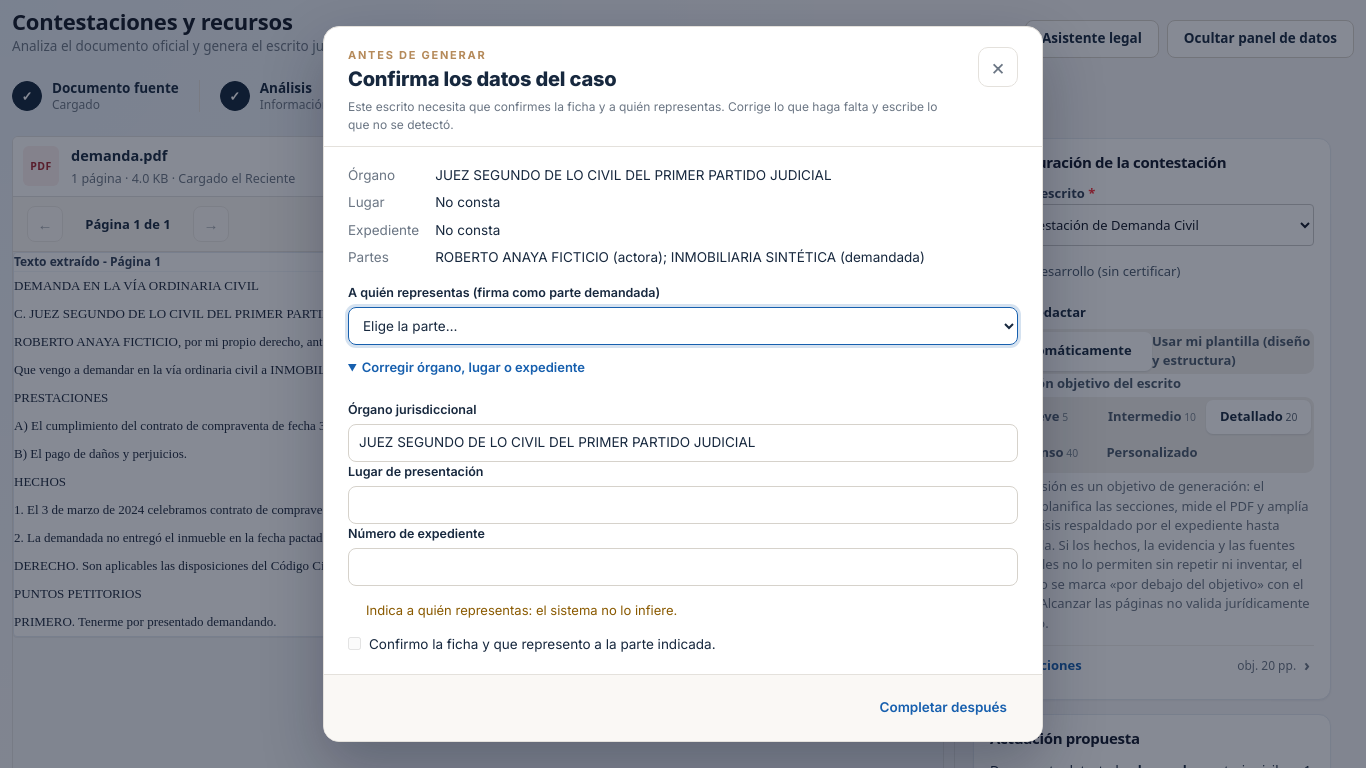
Scenario: diálogo de requisitos del escrito › se cierra al confirmar la ficha y el resumen muestra a quién se representa
Select "ROBERTO ANAYA FICTICIO (actora)" in the dropdown named "Parte que representas": (683, 326) [348, 307, 1018, 345]
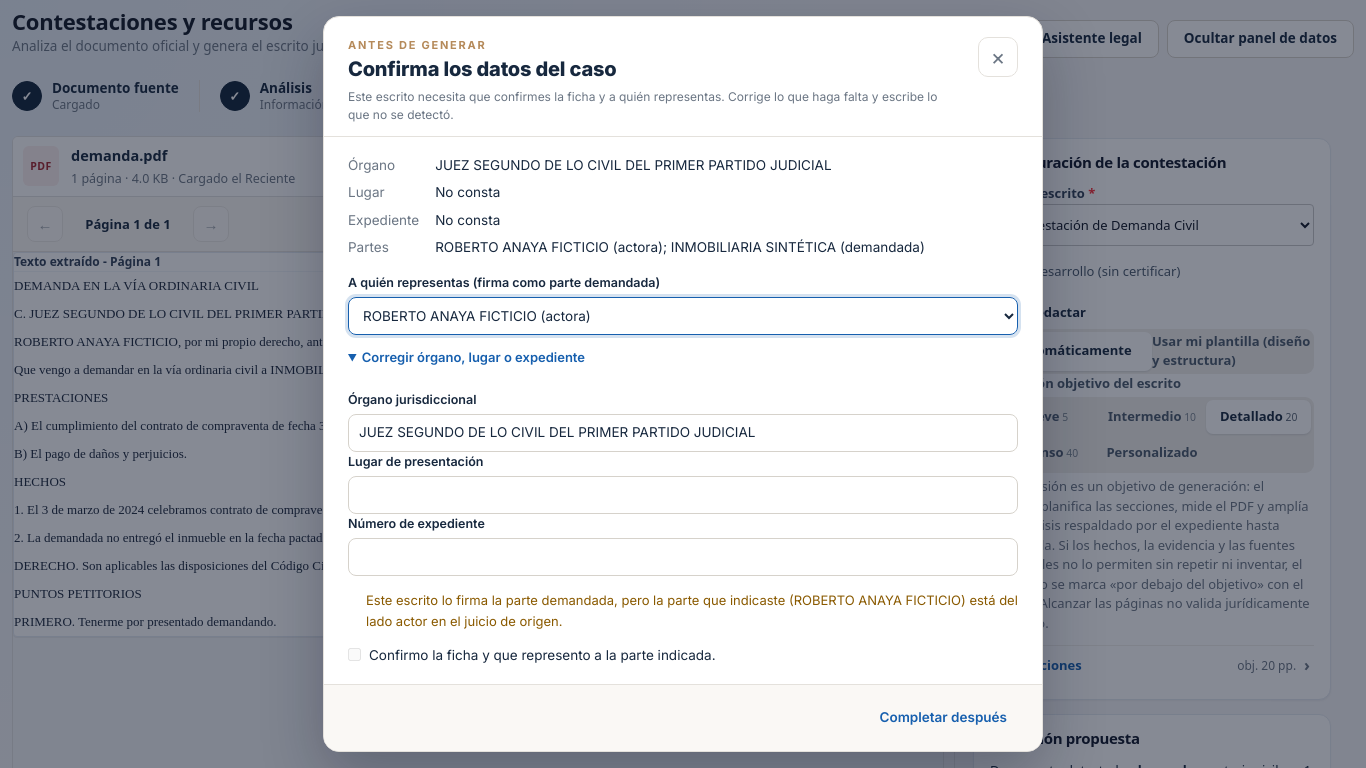
Select "INMOBILIARIA SINTÉTICA (demandada)" in the dropdown named "Parte que representas": (683, 316) [348, 297, 1018, 335]
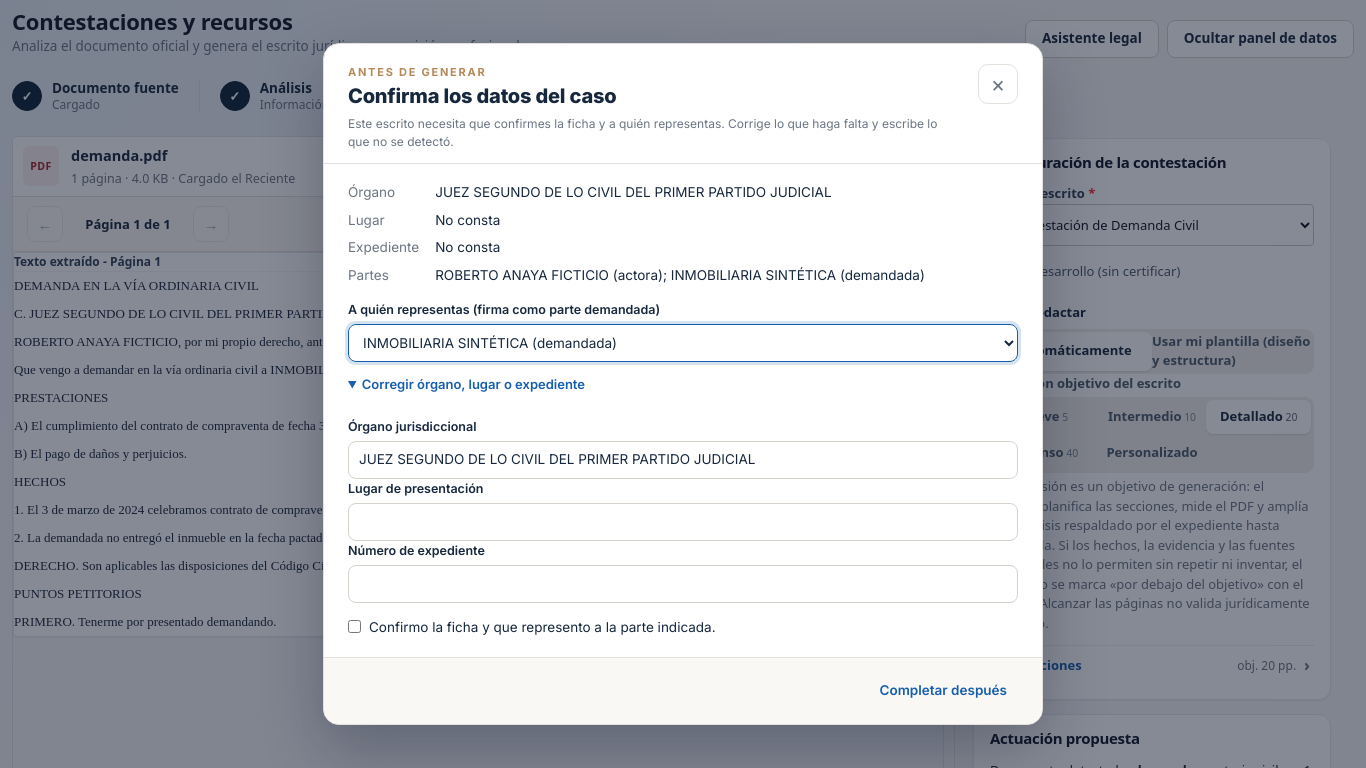
Click the checkbox named "Confirmar ficha del caso": (354, 627) [348, 620, 361, 633]
(page scrolled)
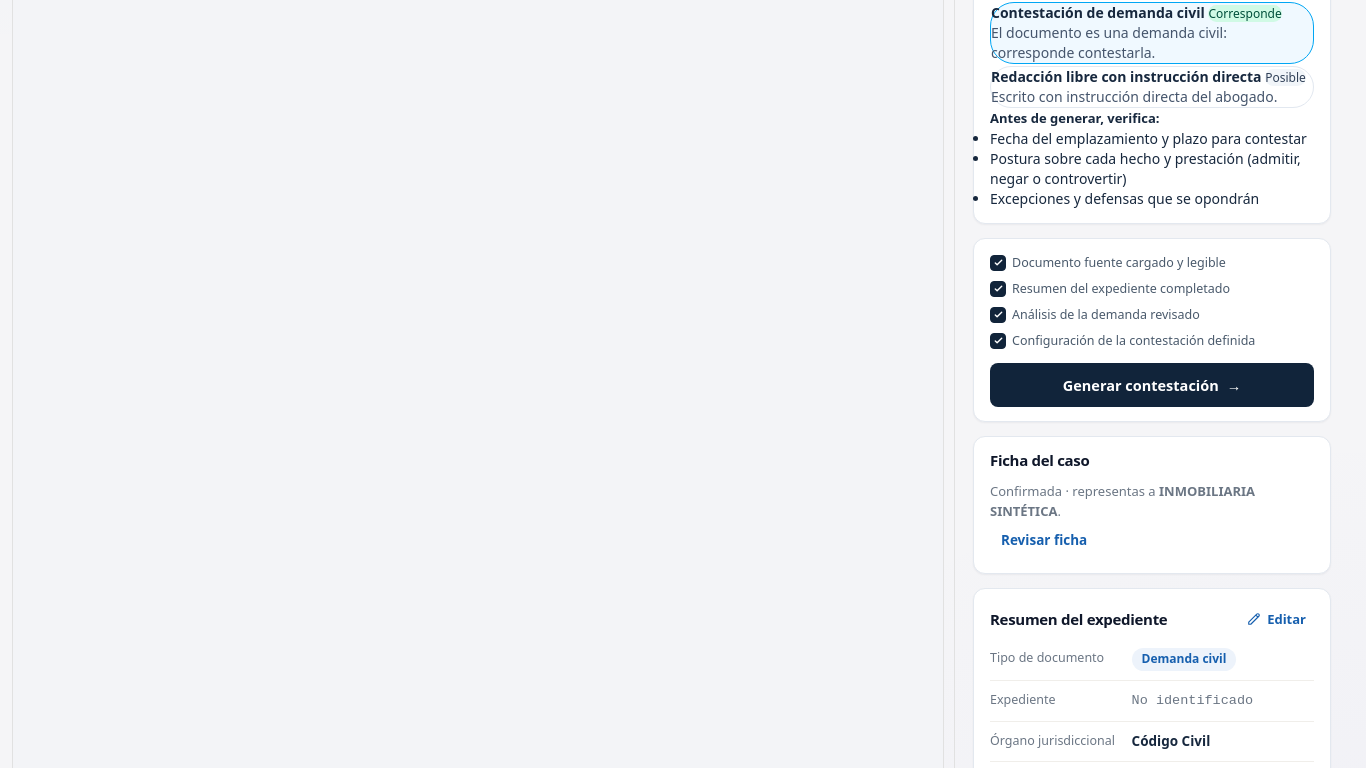
Expected: the dialog is gone
Expected: the element with test id "case-dossier-summary" shows "Confirmada · representas a", [990, 482, 1159, 500]
Expected: the button "Generar contestación →" is enabled, [990, 363, 1314, 407]
